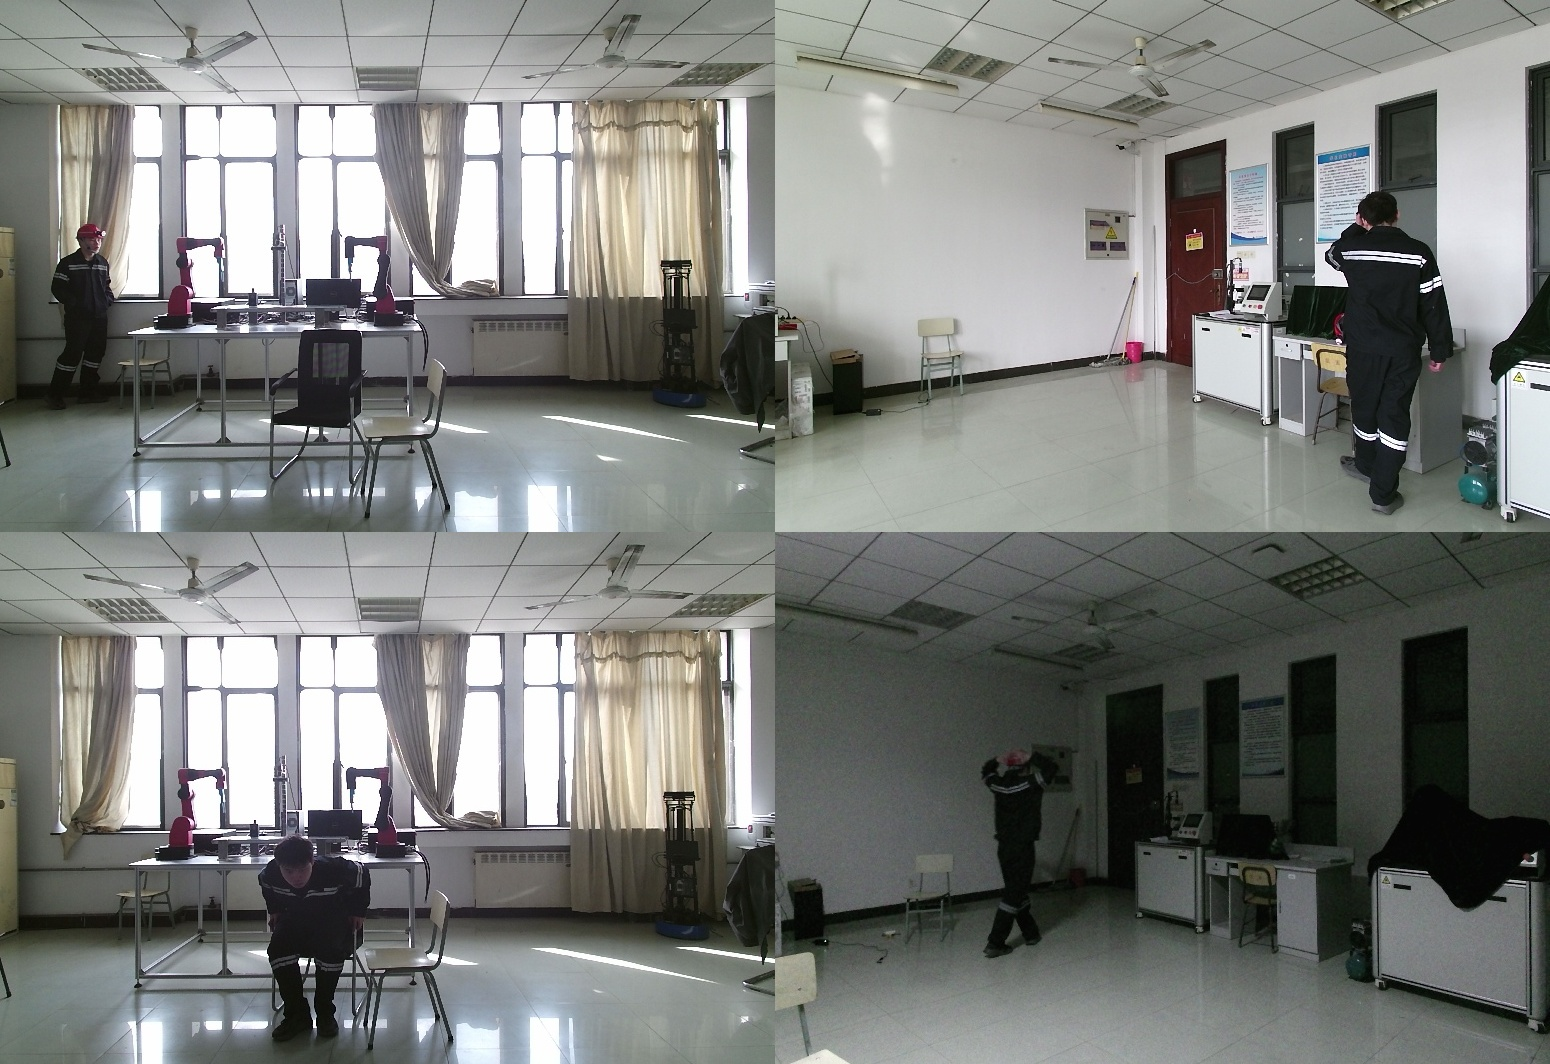person: (1334, 191, 1469, 511), (259, 835, 380, 1039), (970, 737, 1057, 972), (45, 222, 116, 409)
